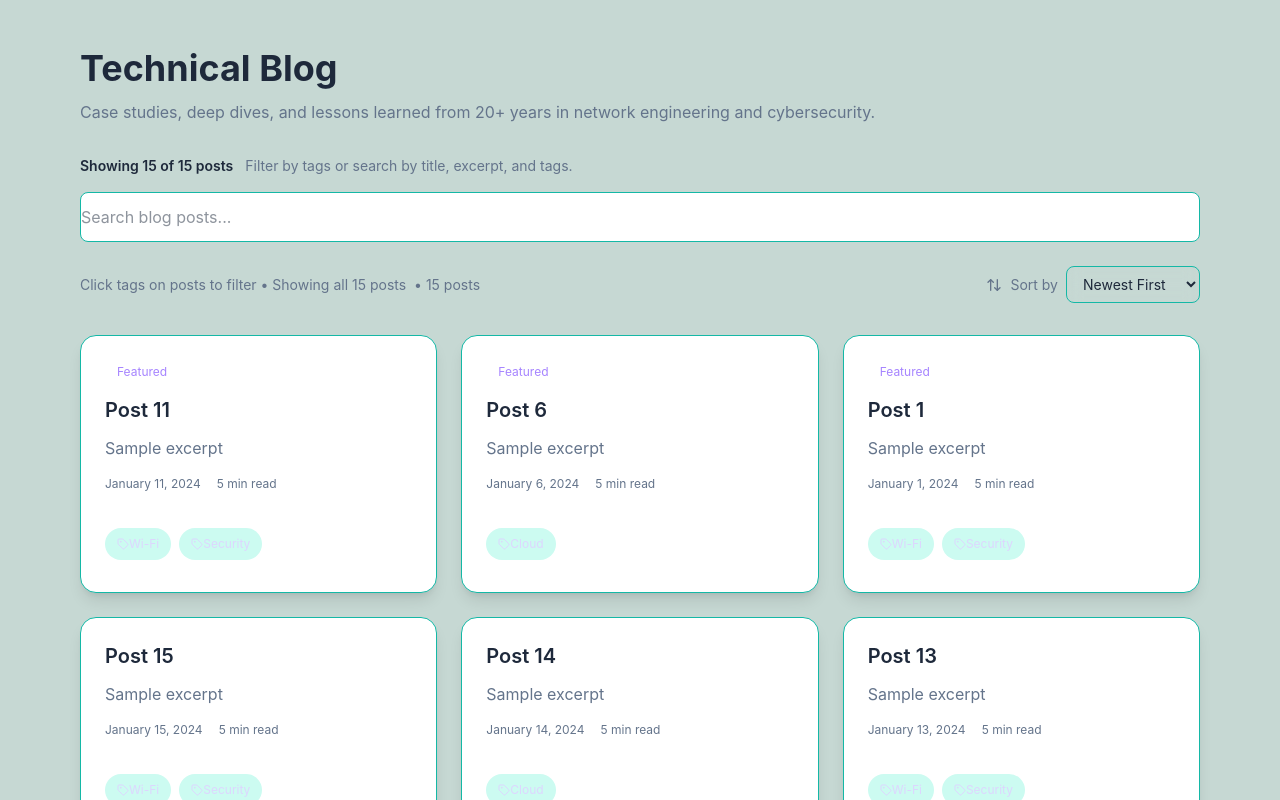
Blog › filters posts by tag when tag is clicked
The image size is (1280, 800).
Expected: the heading "Technical Blog" is shown, [80,46,338,90]
Click the button "Wi-Fi" below "January 11, 2024" at (138, 544), box [105,528,171,560]
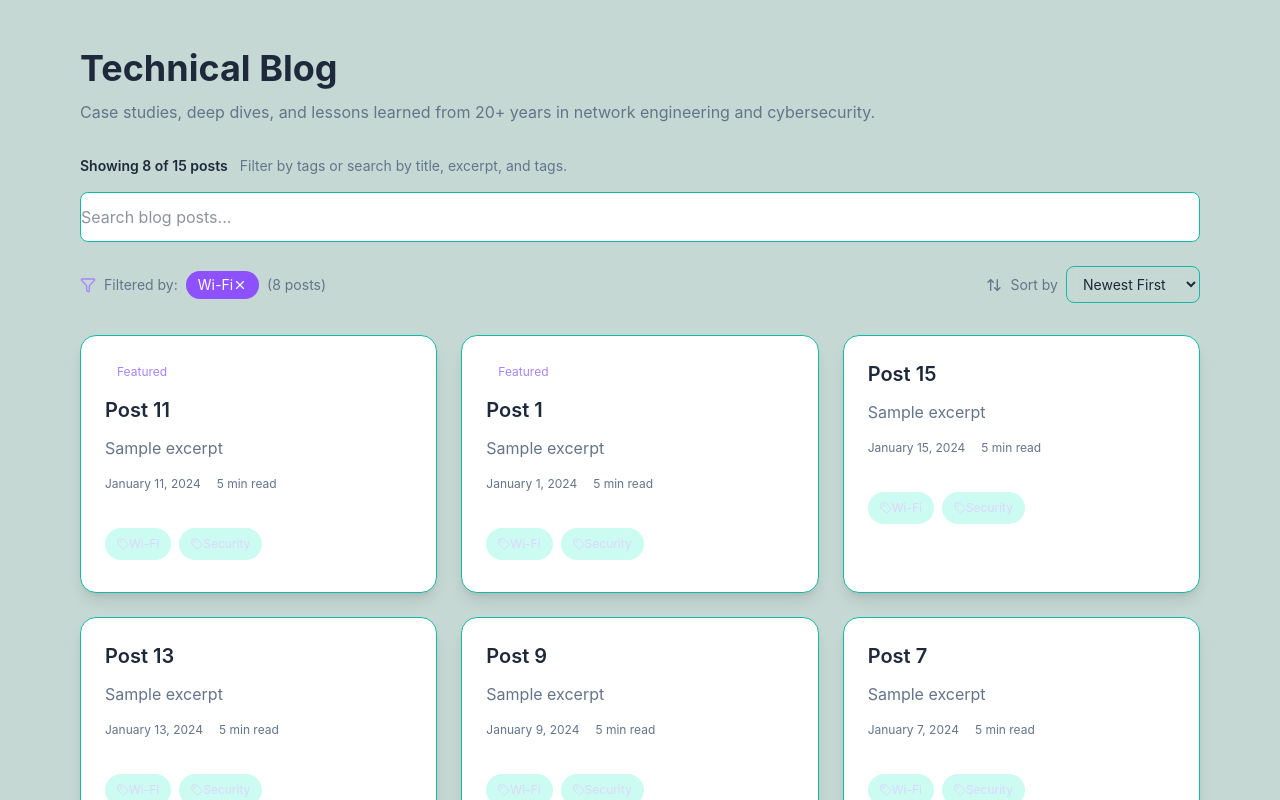
Expected: the text "Filtered by:" is shown, [104,274,178,294]
